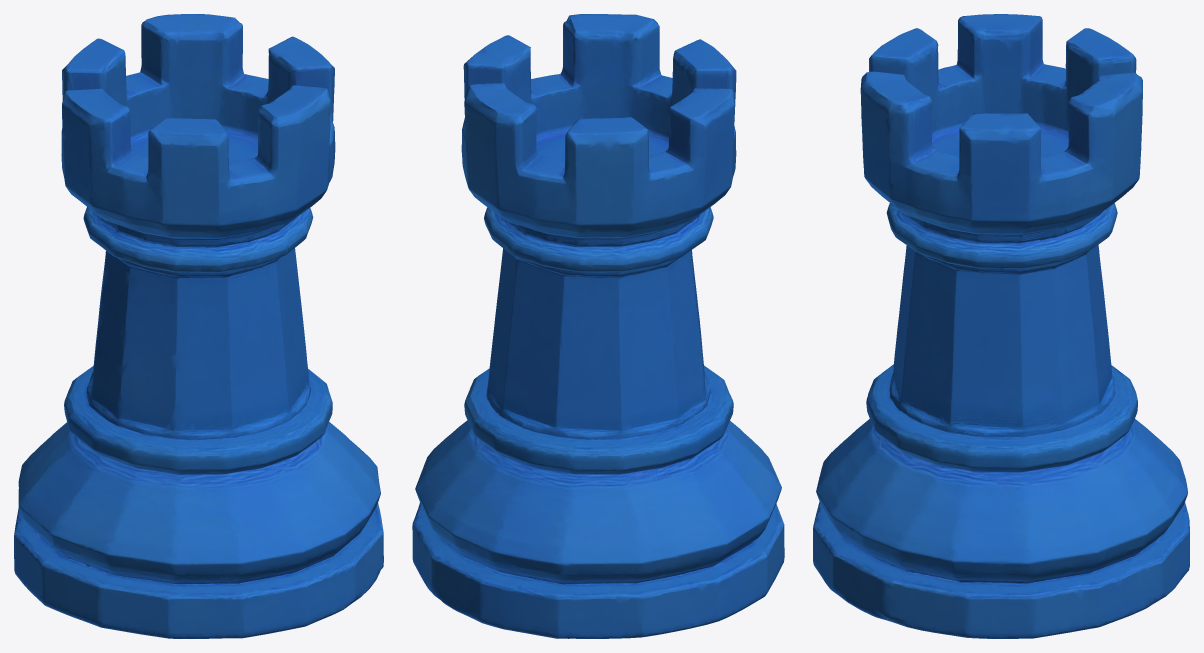
File: chariot.glb
3 views of the same model, side by side, from view 1: azimuth 30°, elevation 25°; view 2: azimuth 150°, elevation 25°; view 3: azimuth 270°, elevation 25° (orthographic).
Parts seen in each view (by area): view 1: tripo_node_8e9de03d-16b9-4a62-a4c2-049cd5bd6543; view 2: tripo_node_8e9de03d-16b9-4a62-a4c2-049cd5bd6543; view 3: tripo_node_8e9de03d-16b9-4a62-a4c2-049cd5bd6543.
Part boxes in pixels (bbox=[...]): tripo_node_8e9de03d-16b9-4a62-a4c2-049cd5bd6543: bbox=[14, 14, 383, 638]; tripo_node_8e9de03d-16b9-4a62-a4c2-049cd5bd6543: bbox=[412, 14, 784, 638]; tripo_node_8e9de03d-16b9-4a62-a4c2-049cd5bd6543: bbox=[813, 14, 1189, 638].
Bounding box in the file's own units: 0.6719 × 0.9794 × 0.6746.
1 material, 1 textured.
